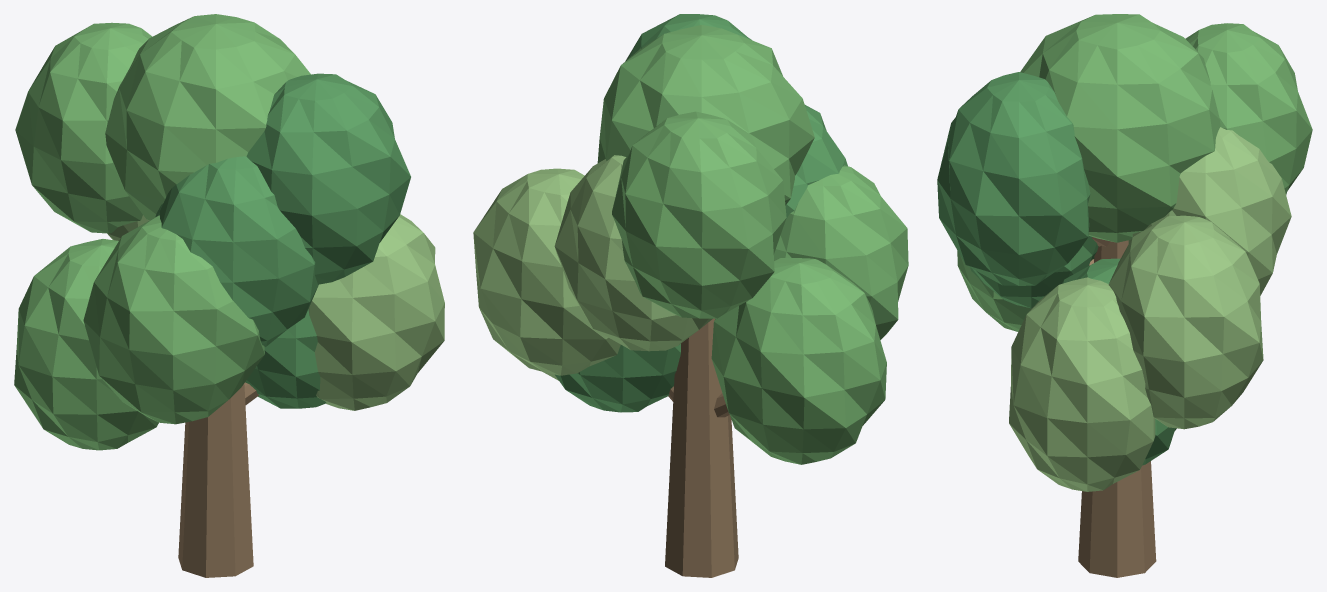
The model's file is tree.gltf.
3 views of the same model, side by side, from view 1: azimuth 30°, elevation 25°; view 2: azimuth 150°, elevation 25°; view 3: azimuth 270°, elevation 25° (orthographic). The views are drawn at different scales.
Visible parts, largest first — view 1: tree; view 2: tree; view 3: tree.
Boxes of the visible parts, left/top/right/bottom form: tree: left=14, top=14, right=444, bottom=577; tree: left=473, top=14, right=908, bottom=577; tree: left=937, top=14, right=1312, bottom=577.
Size of the model in its own units: 2.57 by 3.35 by 2.12.
